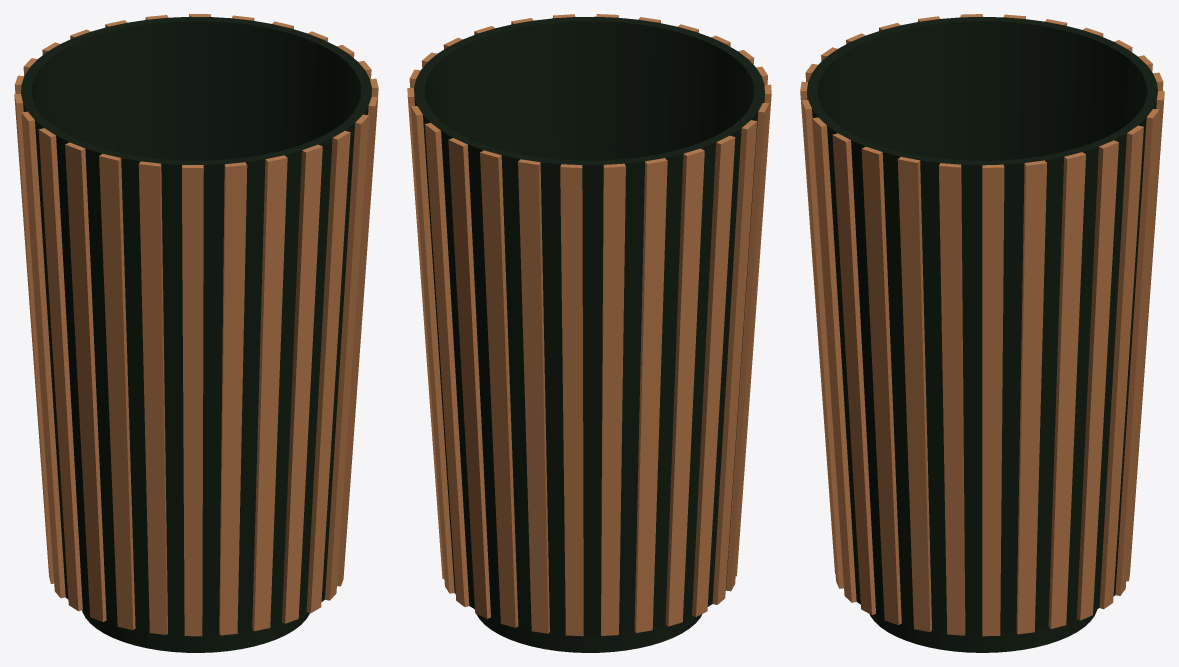
Rendered from Trash_Bin.fbx.
3 renders of one model, left to right at view 1: azimuth 30°, elevation 25°; view 2: azimuth 150°, elevation 25°; view 3: azimuth 270°, elevation 25°, orthographic.
Parts seen in each view (by area): view 1: Cylinder; view 2: Cylinder; view 3: Cylinder.
Part boxes in pixels (box(x1,y1,x2,y2)): Cylinder: box(14, 14, 378, 652); Cylinder: box(407, 14, 771, 652); Cylinder: box(800, 14, 1164, 652).
Bounding box in the file's own units: 51.9 × 80.59 × 51.9.
